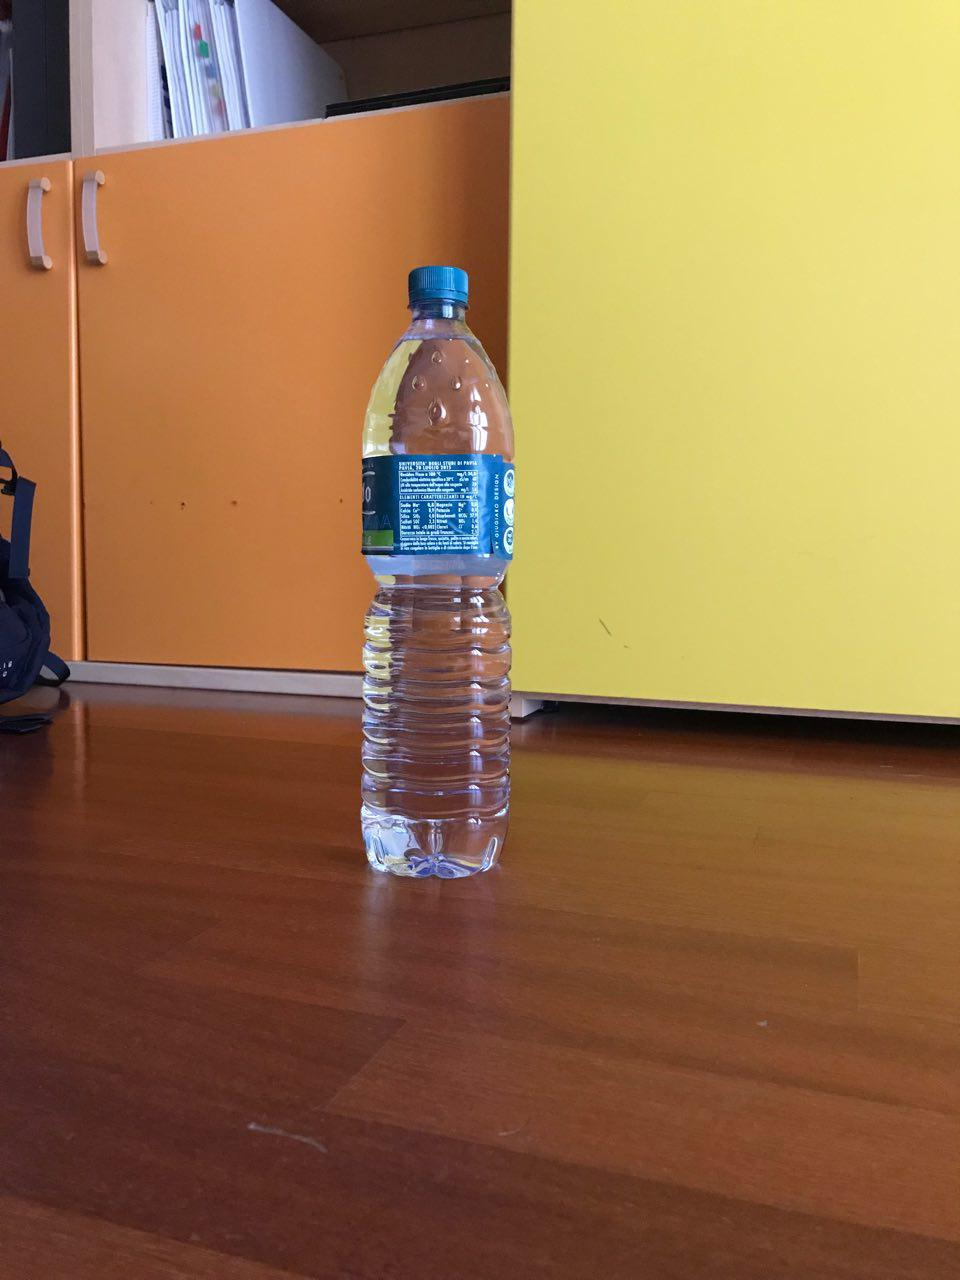san_bernardo: (358, 263, 519, 883)
